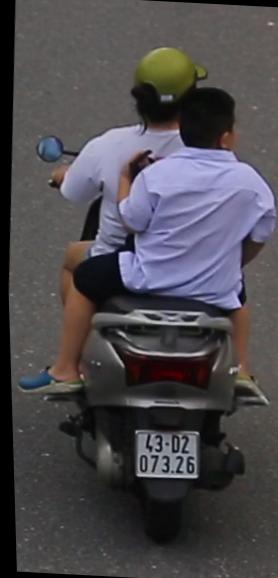LP: (122, 418, 207, 484)
helmet: (119, 32, 214, 132)
no helmet: (167, 76, 248, 172)
